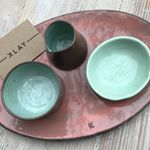cups: (1, 58, 69, 125)
